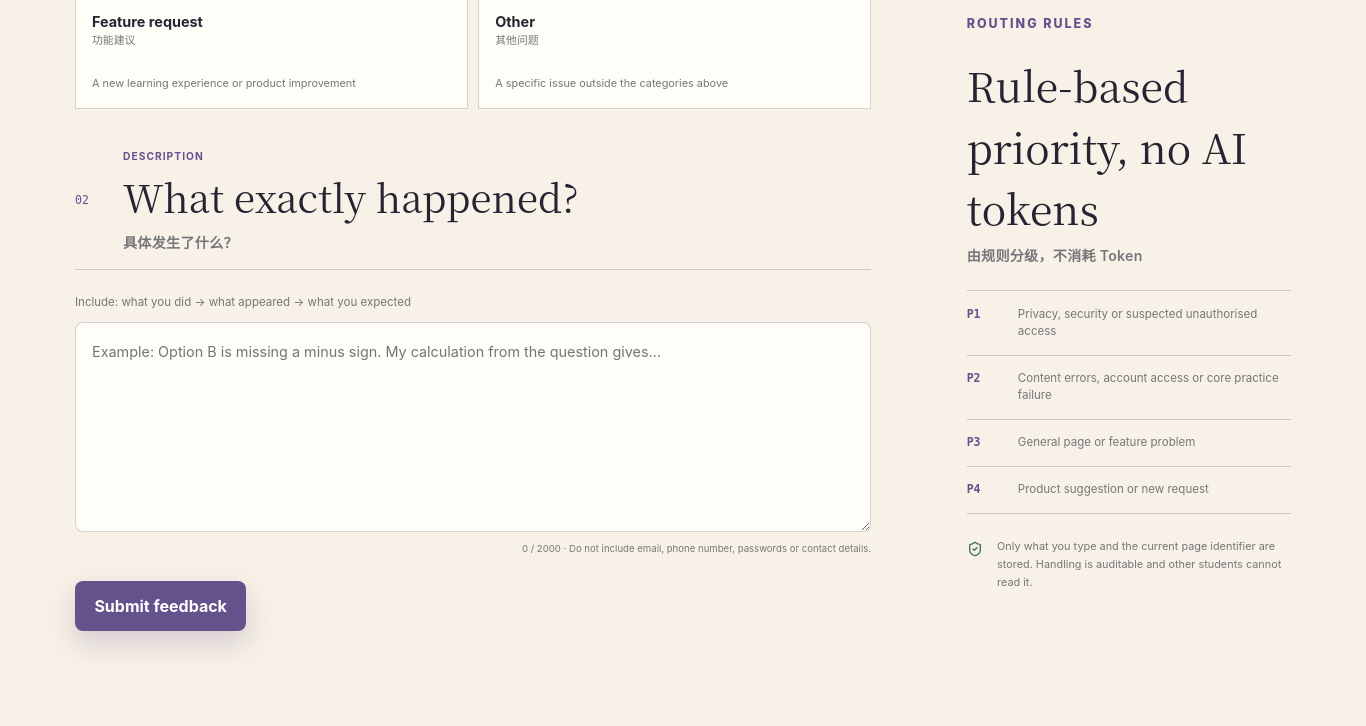
it: student feedback page › prefills question context and returns a private ticket receipt
This screenshot has width=1366, height=726.
(page scrolled)
In the text box labelled "Include: what you did": (473, 427) [75, 322, 871, 532], type "这道题的 B 选项公式少了负号，请依据原始资料核对。"
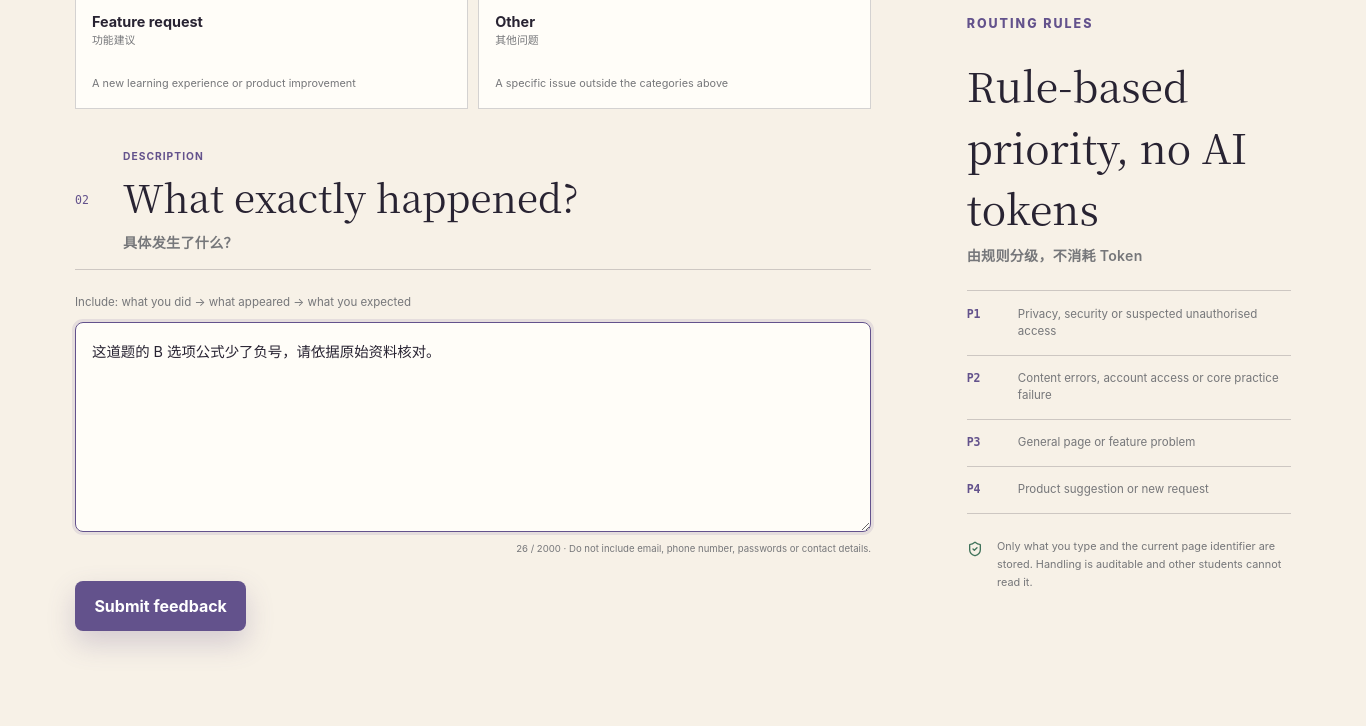
Click the button "Submit feedback": (161, 606) [75, 581, 246, 631]
(page scrolled)
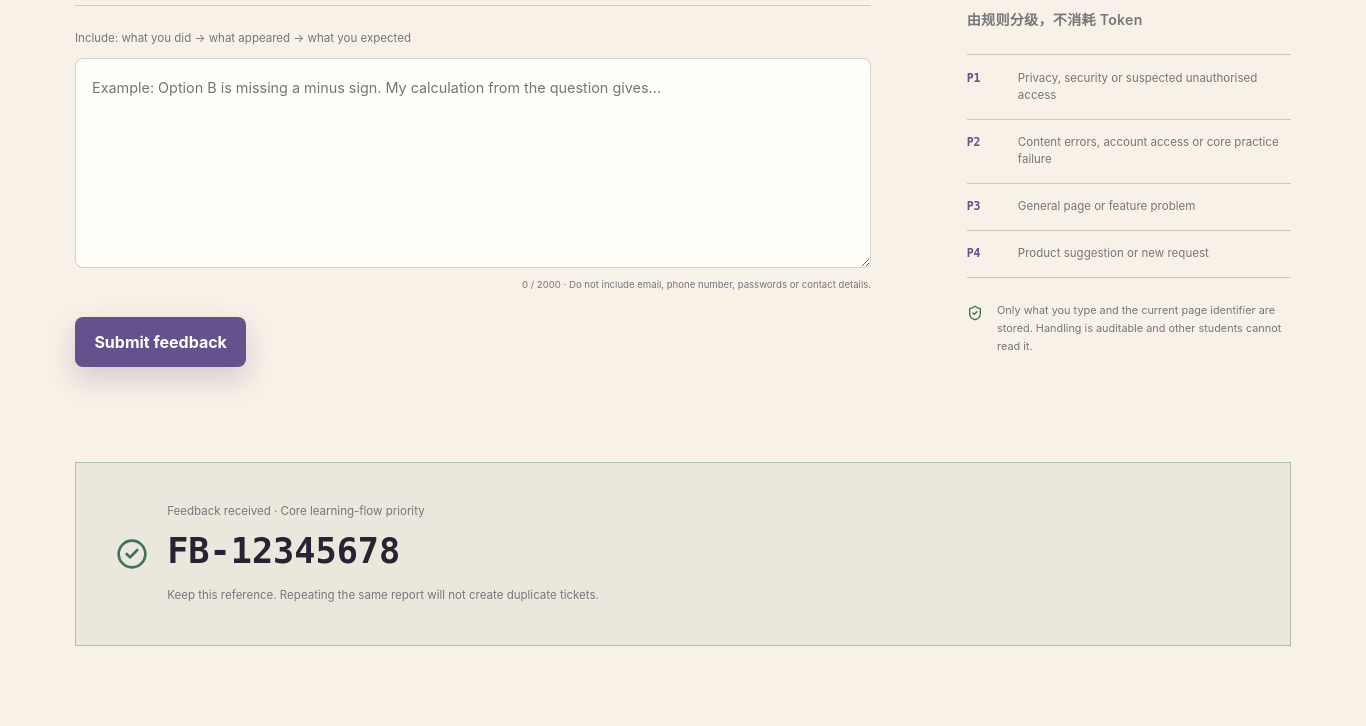
Expected: the heading "FB-12345678" is shown, [167, 530, 400, 570]
Expected: the text "Repeating the same report will not create duplicate tickets" is shown, [167, 588, 599, 602]
